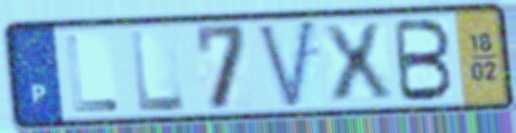7: (194, 23, 252, 114)
B: (392, 17, 456, 104)
L: (127, 26, 190, 115), (63, 33, 122, 115)
V: (254, 16, 319, 113)
X: (317, 20, 397, 105)
